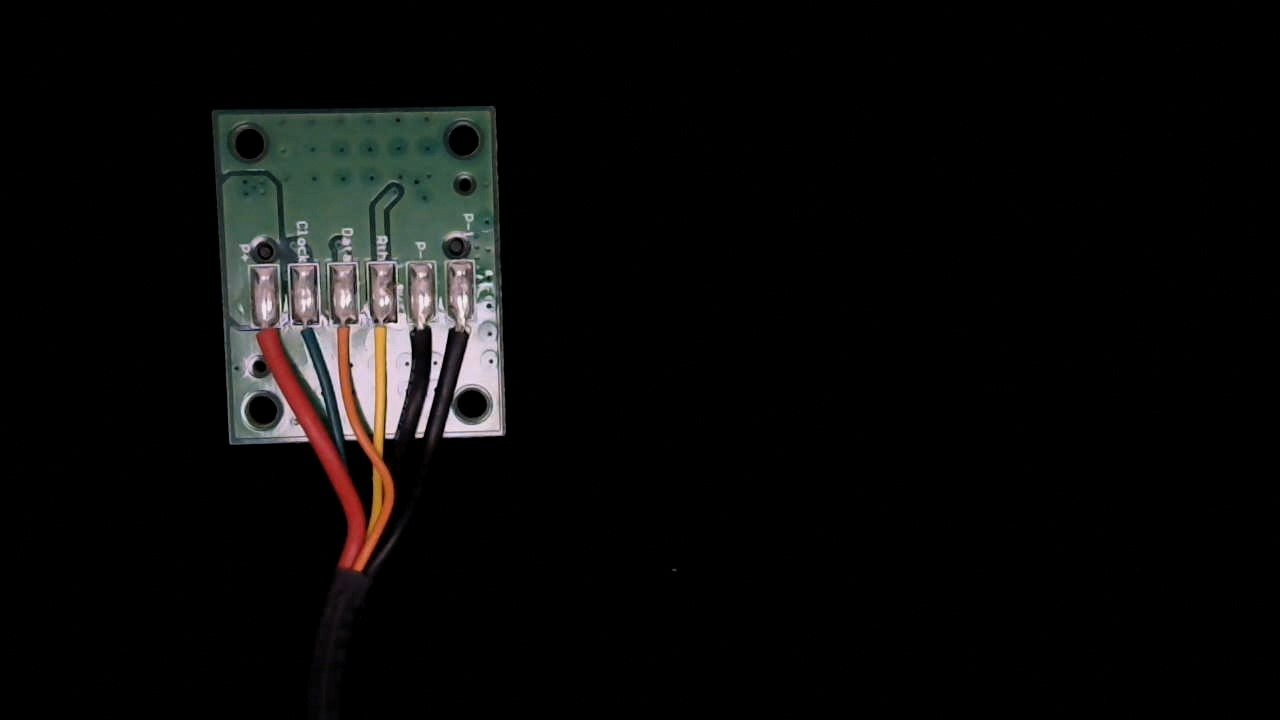Black: (406, 305, 437, 373)
Black1: (444, 304, 478, 371)
Green: (288, 307, 322, 369)
Orange: (328, 302, 361, 374)
Red: (246, 308, 281, 378)
Yellow: (364, 303, 399, 377)
